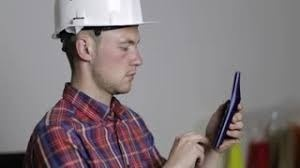helmet: (48, 1, 162, 43)
person with partial safety: (22, 1, 167, 167)
